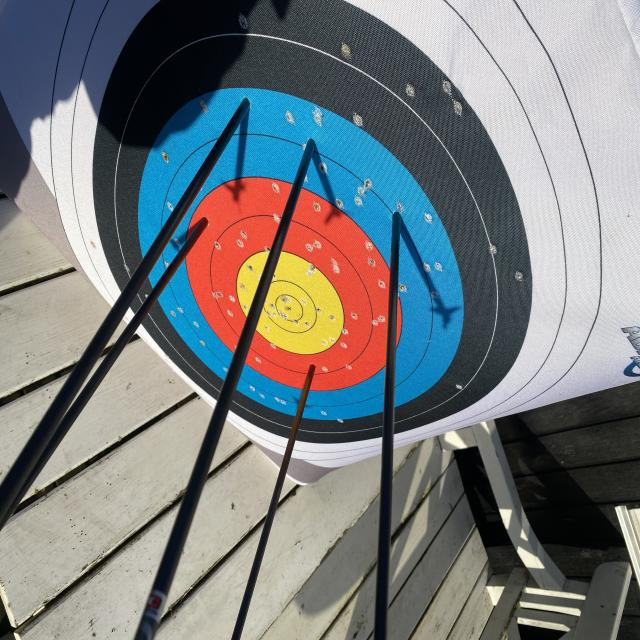Arrow_Blue: (222, 90, 272, 131), (371, 197, 414, 237), (291, 128, 326, 164)
Arrow_Red: (191, 210, 220, 256), (303, 358, 337, 388)
